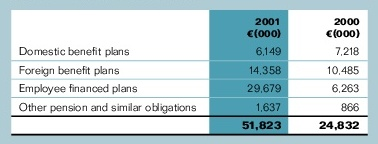table: (0, 0, 378, 144)
